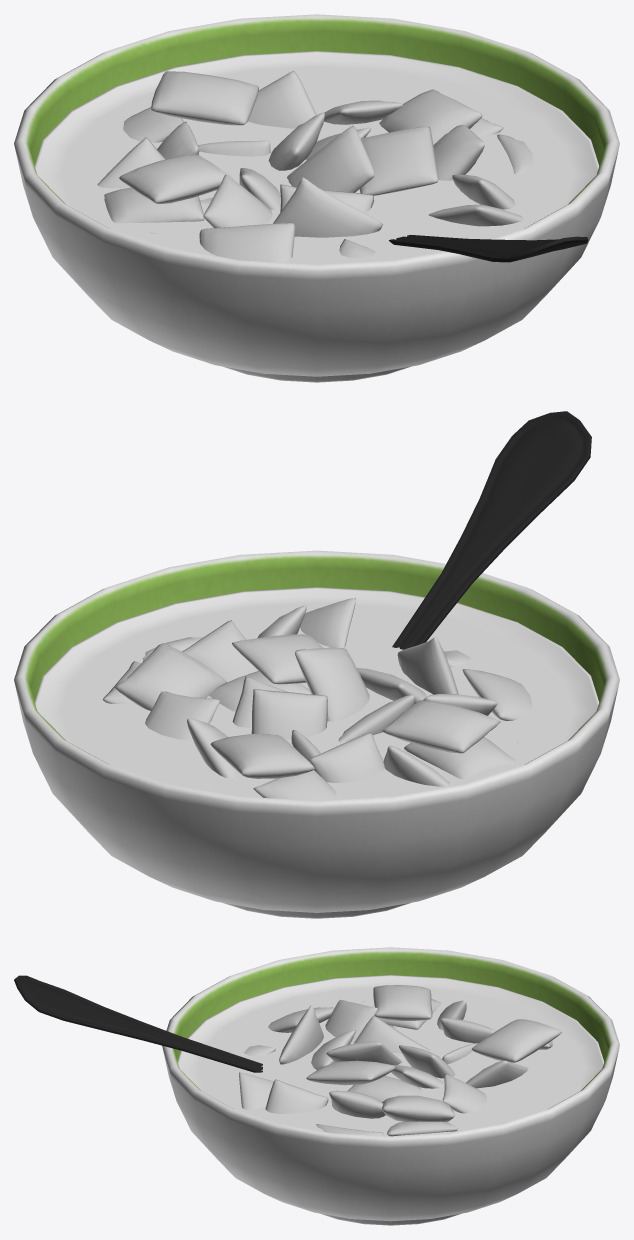
Rendered from Breakfast_Cereal_Pads_in_Bowl_with_Milk_fbx_base.fbx.
The picture shows the model from 3 angles, top to bottom: view 1: azimuth 30°, elevation 25°; view 2: azimuth 150°, elevation 25°; view 3: azimuth 270°, elevation 25°; orthographic projection. The views are drawn at different scales.
Parts seen in each view (by area): view 1: Breakfast_Cereal_Pads_in_Bowl_with_Milk; view 2: Breakfast_Cereal_Pads_in_Bowl_with_Milk; view 3: Breakfast_Cereal_Pads_in_Bowl_with_Milk.
Part boxes in pixels (x1,y1,x2,y2): Breakfast_Cereal_Pads_in_Bowl_with_Milk: [14, 14, 619, 382]; Breakfast_Cereal_Pads_in_Bowl_with_Milk: [14, 411, 619, 918]; Breakfast_Cereal_Pads_in_Bowl_with_Milk: [14, 947, 619, 1225].
Bounding box in the file's own units: 2387 × 1804 × 882.
